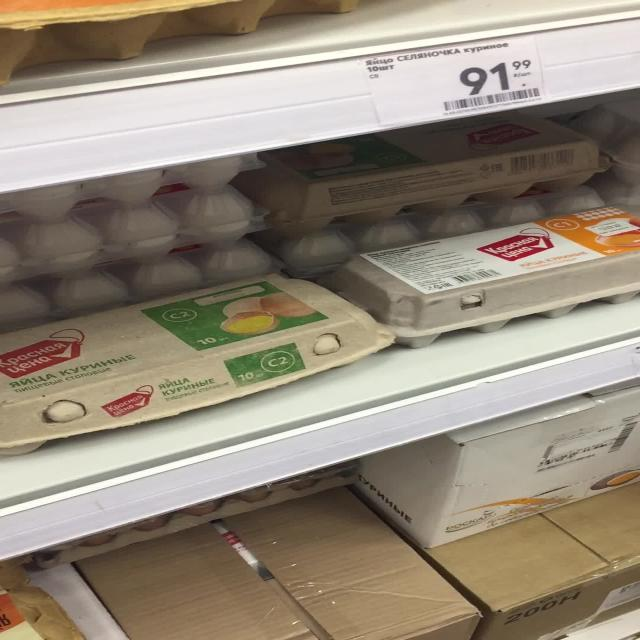egg box: (0, 273, 377, 458), (343, 205, 634, 340)
